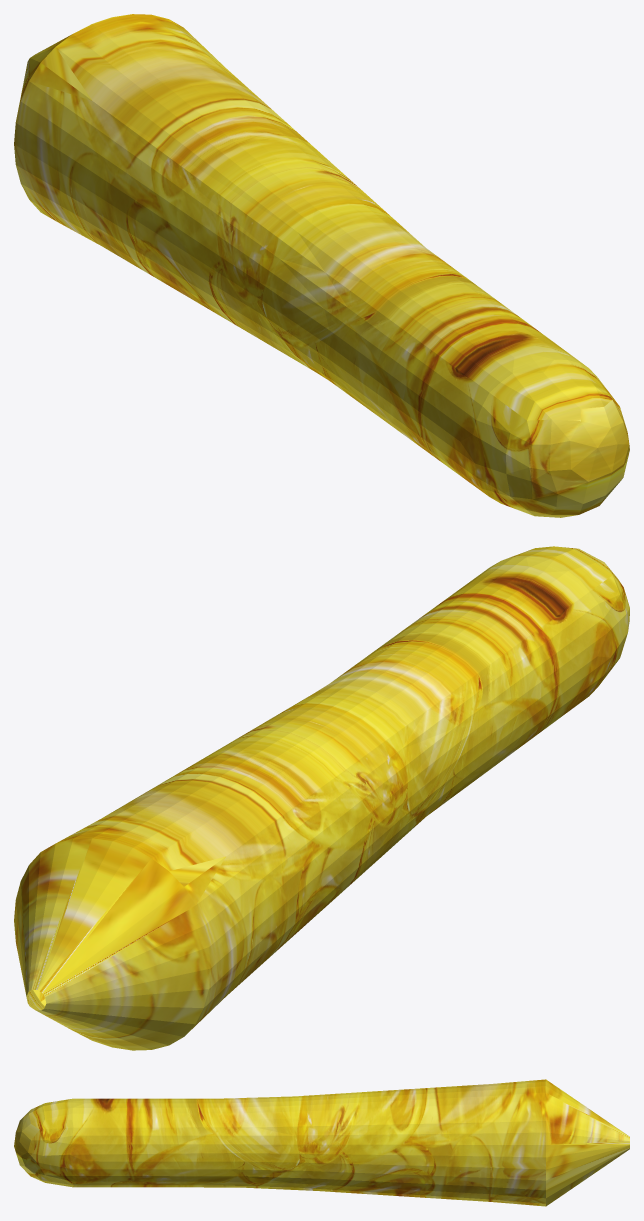
File: Fish4_2.dae
3 views of the same model, one above another, from view 1: azimuth 30°, elevation 25°; view 2: azimuth 150°, elevation 25°; view 3: azimuth 270°, elevation 25° (orthographic). The views are drawn at different scales.
Visible parts, largest first — view 1: Cube_Cube_001; view 2: Cube_Cube_001; view 3: Cube_Cube_001.
Boxes of the visible parts, x1=… form: Cube_Cube_001: x1=14, y1=14, x2=629, y2=517; Cube_Cube_001: x1=14, y1=546, x2=629, y2=1050; Cube_Cube_001: x1=14, y1=1079, x2=629, y2=1206.
Bounding box in the file's own units: 0.5707 × 2.8 × 0.5707.
1 material, 1 textured.
